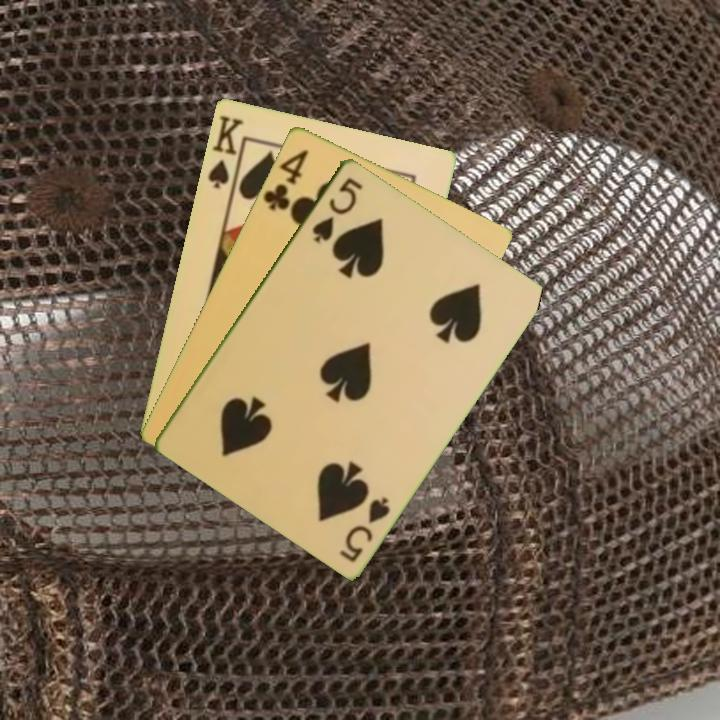4c: (259, 145, 311, 213)
5s: (308, 173, 366, 245), (336, 492, 393, 564)
Ks: (204, 111, 246, 191)
